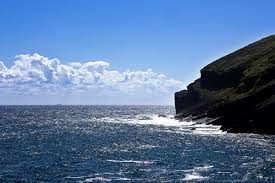sea: (5, 108, 275, 182)
sky: (1, 1, 194, 107)
stone: (176, 29, 272, 132)
